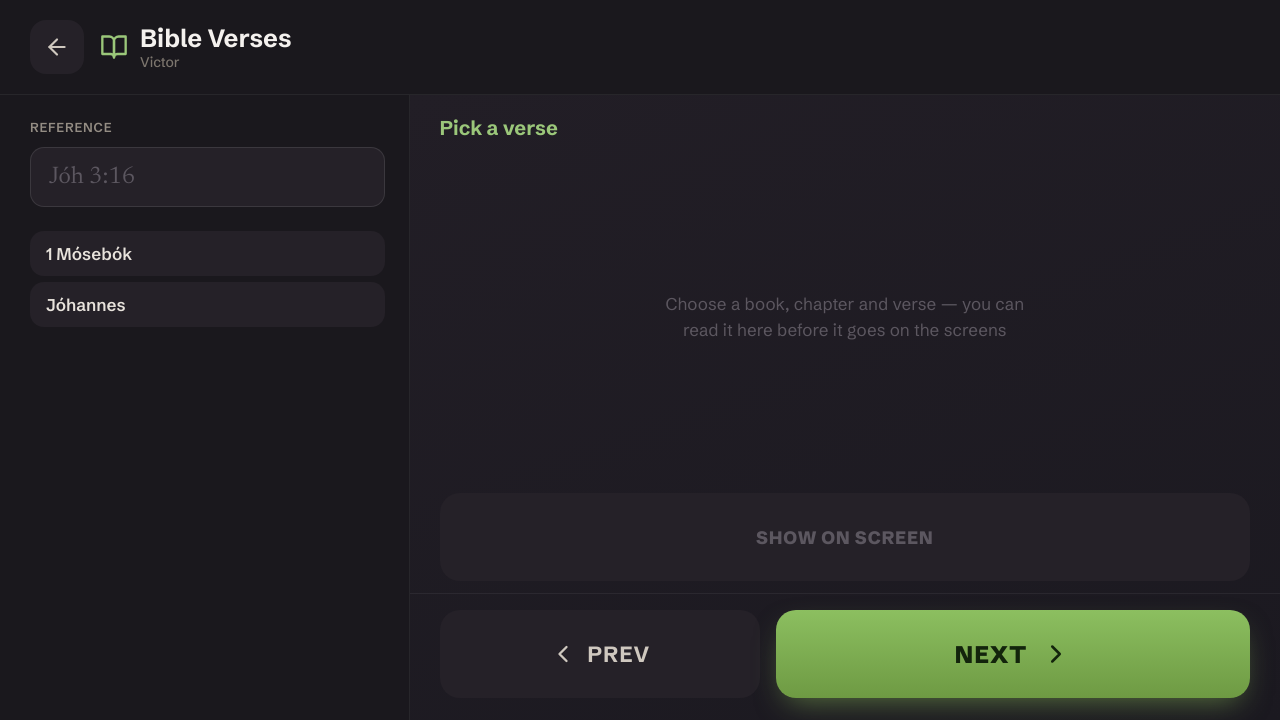
Test case: Bible view › reads the live verse back off the output
In the field labelled "Reference": (207, 177) [30, 147, 385, 207], type "1 Mósebók 1:3"
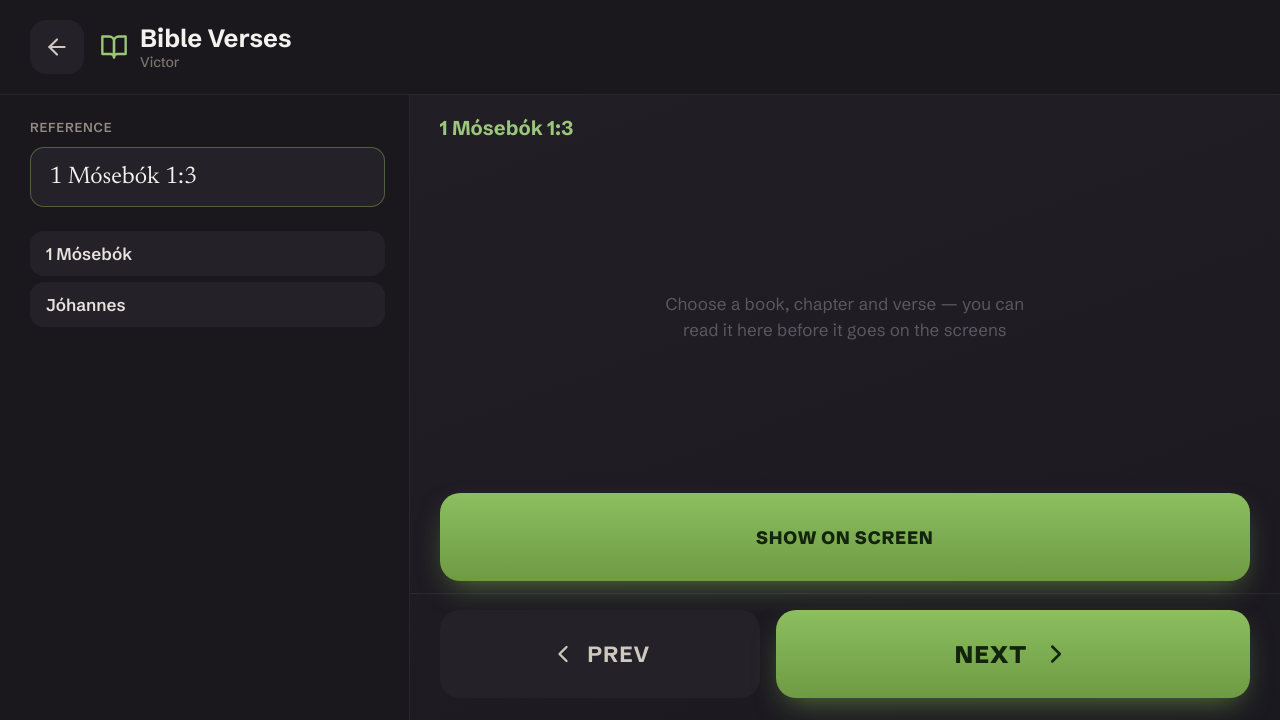
Click the button "SHOW ON SCREEN": click(845, 537) [440, 493, 1250, 581]
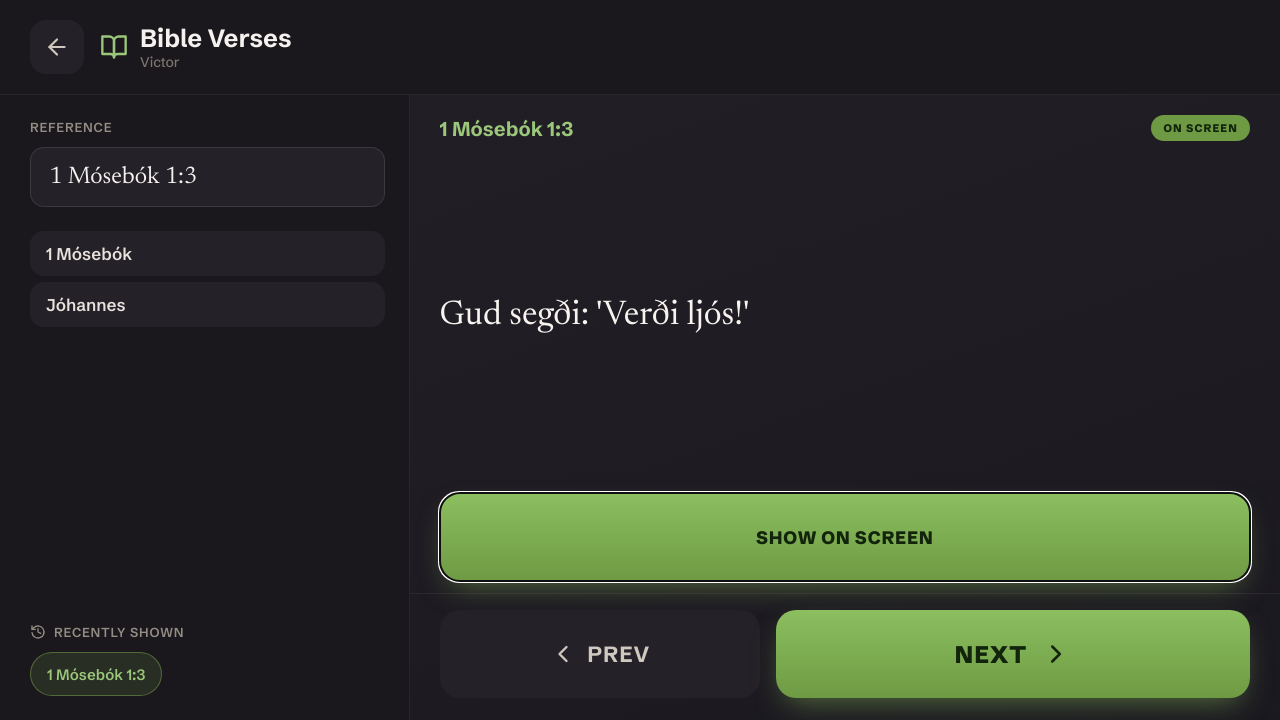
Now the text "Gud segði: 'Verði ljós!'" is shown, box [440, 292, 749, 342]
